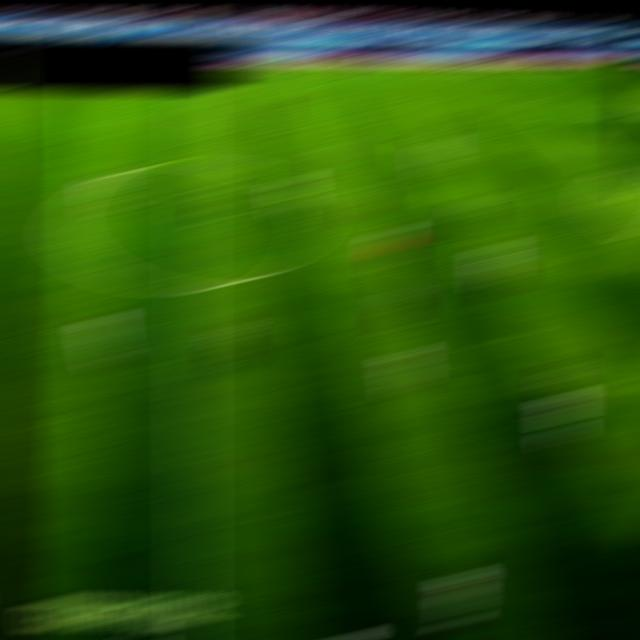bigarea_top_inner: (537, 108, 571, 117)
halfcircle_bottom: (172, 282, 208, 294)
halfcircle_top: (172, 158, 207, 168)
top_arc_area_intersection: (596, 166, 628, 174)
